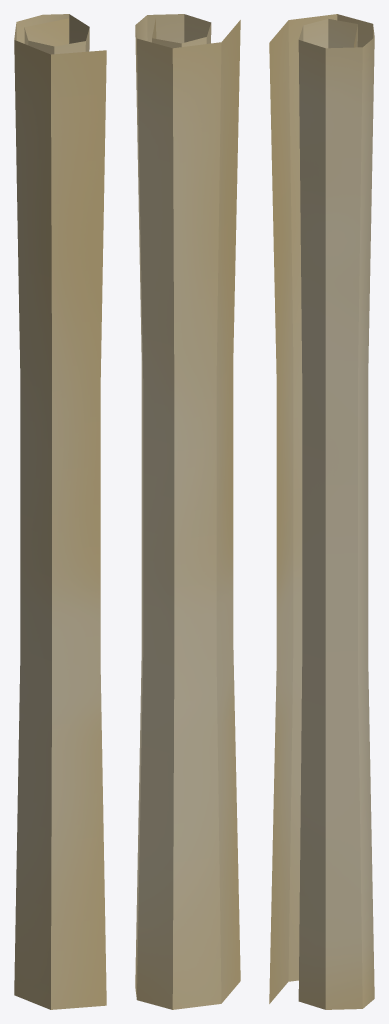
File: paper1.fbx
The picture shows the model from 3 angles, left to right: view 1: azimuth 90°, elevation 25°; view 2: azimuth 150°, elevation 25°; view 3: azimuth 330°, elevation 25°; orthographic projection.
Parts seen in each view (by area): view 1: paperPlane1; view 2: paperPlane1; view 3: paperPlane1.
Boxes of the visible parts, x1,y1,x2,y2 form: paperPlane1: (14, 14, 106, 1009); paperPlane1: (135, 14, 240, 1009); paperPlane1: (269, 14, 374, 1009).
Size of the model in its own units: 0.2374 by 2.61 by 0.229.
Materials: 1 (1 with a texture image).
